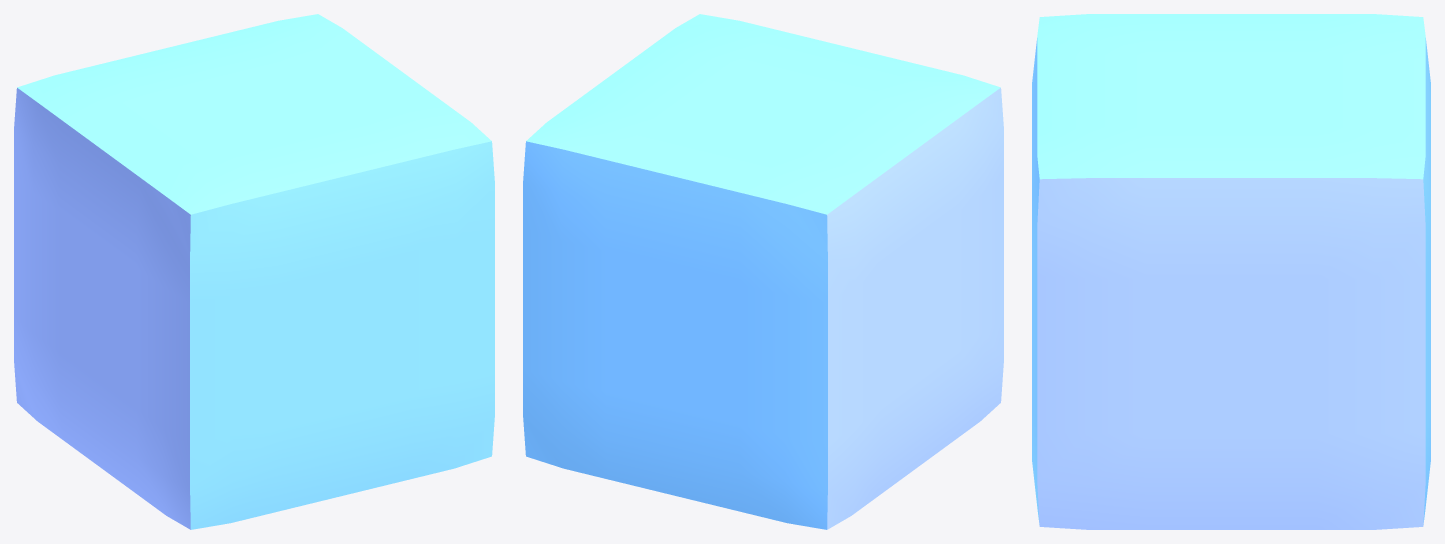
3 views of the same model, side by side, from view 1: azimuth 30°, elevation 25°; view 2: azimuth 150°, elevation 25°; view 3: azimuth 270°, elevation 25° (orthographic). The views are drawn at different scales.
Visible parts, largest first — view 1: Cube-whole fitted to left; view 2: Cube-whole fitted to left; view 3: Cube-whole fitted to left.
Part boxes in pixels (bbox=[...]): Cube-whole fitted to left: bbox=[14, 14, 494, 529]; Cube-whole fitted to left: bbox=[523, 14, 1003, 529]; Cube-whole fitted to left: bbox=[1032, 14, 1430, 529].
Size of the model in its own units: 0.0221 by 0.0221 by 0.0221.
